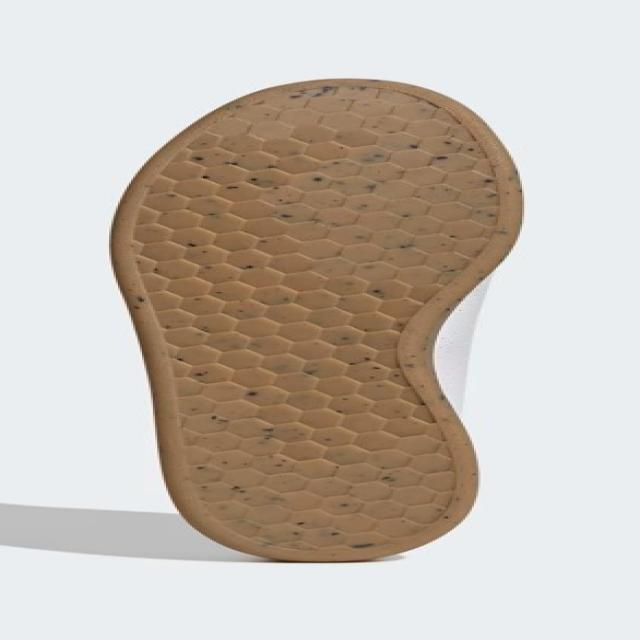shoe: (104, 74, 540, 571)
